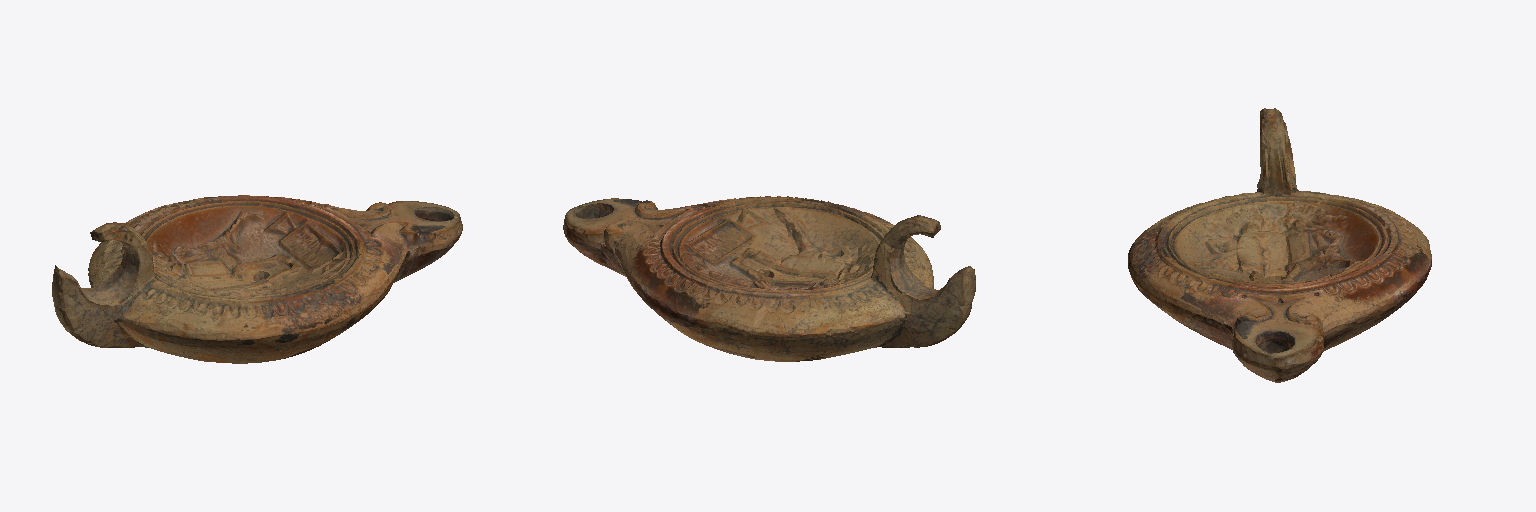
The picture shows the model from 3 angles: view 1: azimuth 30°, elevation 25°; view 2: azimuth 150°, elevation 25°; view 3: azimuth 270°, elevation 25°; orthographic projection.
Visible parts, largest first — view 1: roman_lamp; view 2: roman_lamp; view 3: roman_lamp.
Part boxes in pixels (x1,y1,x2,y2): roman_lamp: (52, 195, 462, 363); roman_lamp: (563, 196, 975, 361); roman_lamp: (1128, 108, 1431, 382).
Bounding box in the file's own units: 157 × 52.9 × 102.
1 materials, 1 textured.